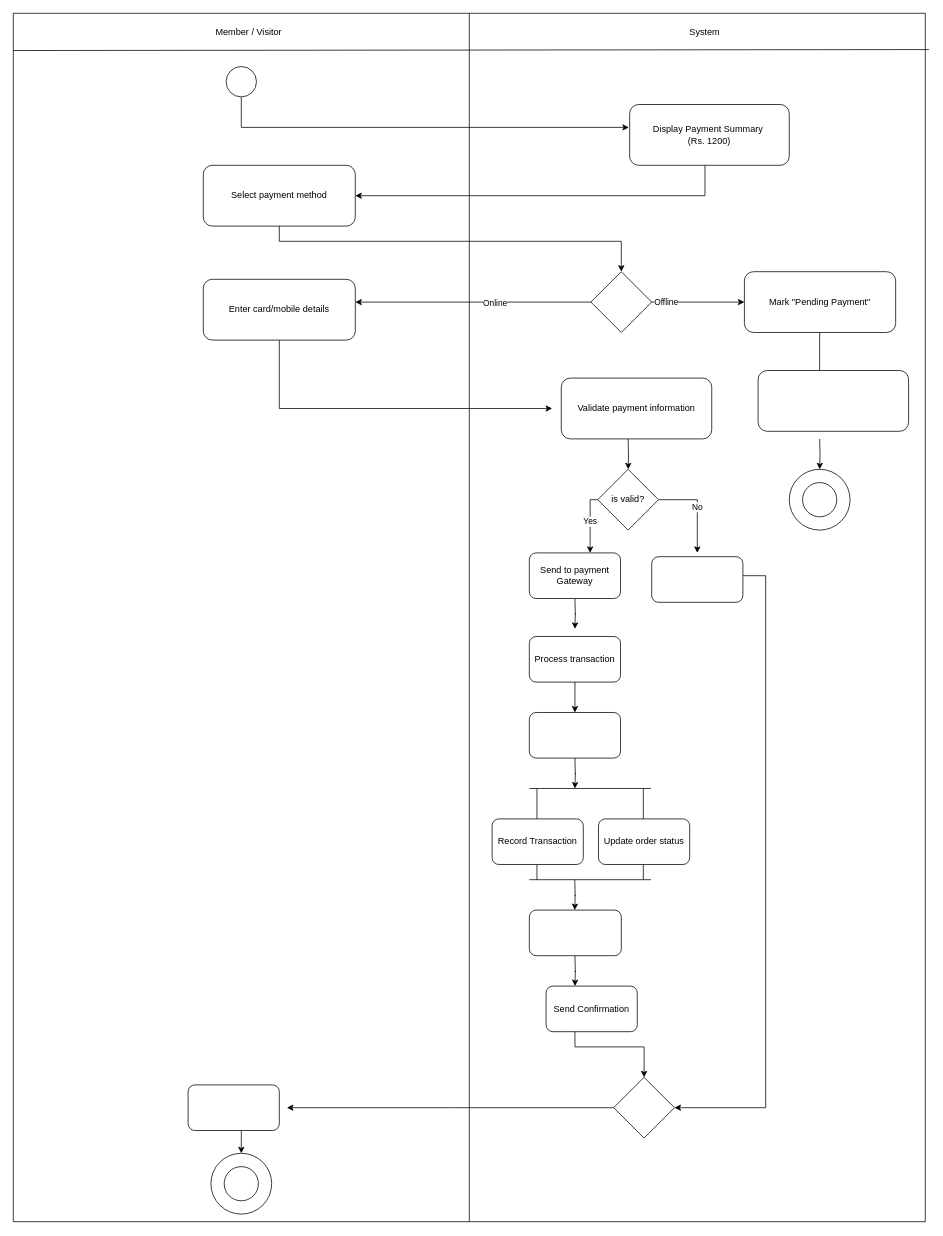
The diagram is 943 pixels wide and 1236 high, and some of its shapes have lost their labels. The shapes that lost their labels are listed below. From the top down, each one's centre as x and y in pixels, then its label:
(x=621, y=301): Payment Mode?
(x=833, y=400): Generate provisional booking
(x=697, y=579): show error messaage
(x=575, y=735): Return success status
(x=575, y=932): Generate Receipt
(x=233, y=1107): Receive Confirmation
